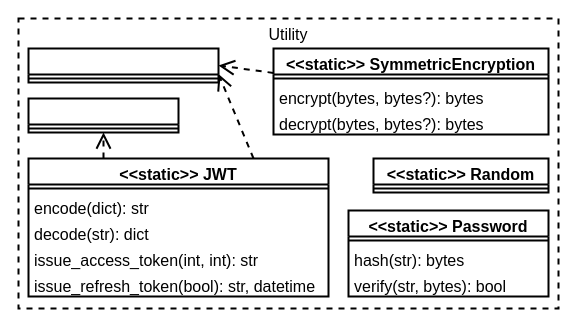
Image size: 576x326. Some labels were removed from this diagram. The centre of each missing label's shape, as x and y in pixels:
<<singleton>> Settings: point 123,65
<<static>> Utils: point 103,115
